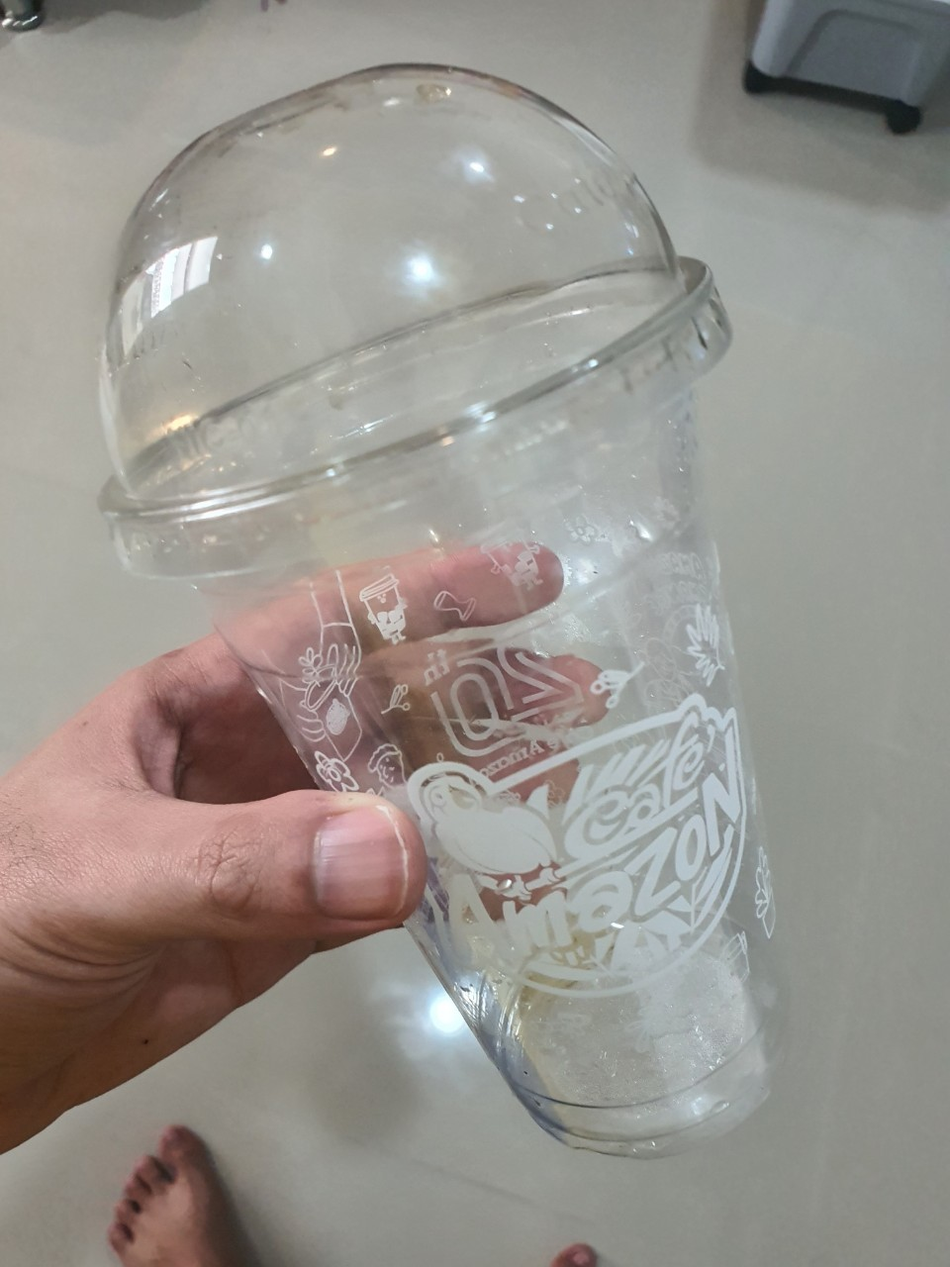plastic: (76, 48, 811, 1172)
